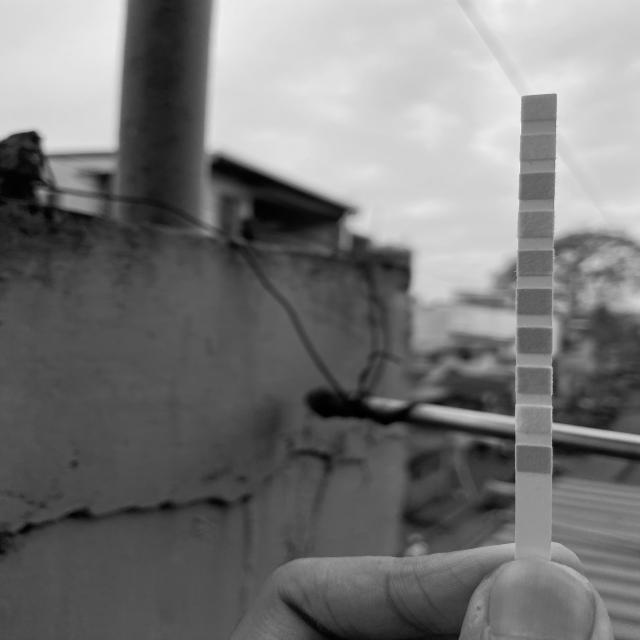Bilirubin: (516, 407, 550, 430)
Blood: (516, 289, 551, 312)
Glucose: (517, 448, 551, 471)
Ketone: (517, 370, 552, 392)
Leukocytes: (522, 95, 556, 118)
Nitrite: (520, 136, 554, 158)
Protein: (519, 213, 553, 236)
SpGravity: (517, 330, 552, 352)
Urobilinogen: (520, 174, 554, 197)
background: (0, 0, 640, 640)
pH: (517, 252, 552, 274)
strip: (516, 93, 557, 558)
